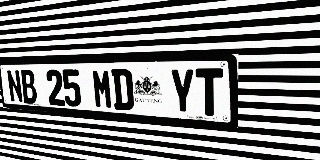2: (45, 69, 65, 106)
5: (62, 69, 82, 107)
B: (20, 70, 38, 104)
D: (111, 69, 134, 111)
M: (91, 69, 114, 109)
N: (6, 70, 24, 103)
T: (195, 68, 223, 117)
Y: (169, 69, 195, 115)
